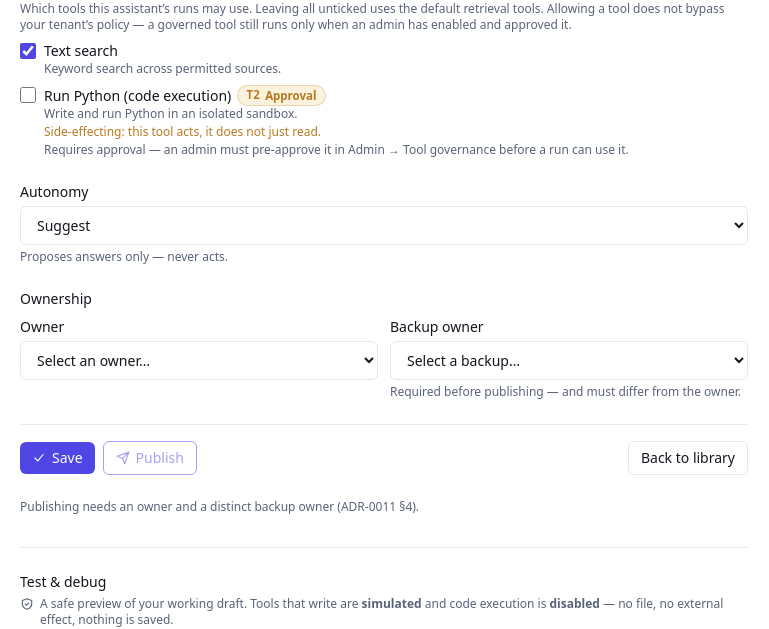
Test: AssistantEditor — publish gating (AC-1, ADR-0011 §4) › DISABLES Publish until an owner and a distinct backup owner are set
This screenshot has width=769, height=629.
(page scrolled)
Expected: the button "Publish" is disabled, [103,441,197,475]
Select "ada@acme.com" in the dropdown labelled "Owner" at (199, 360), box [20,341,378,380]
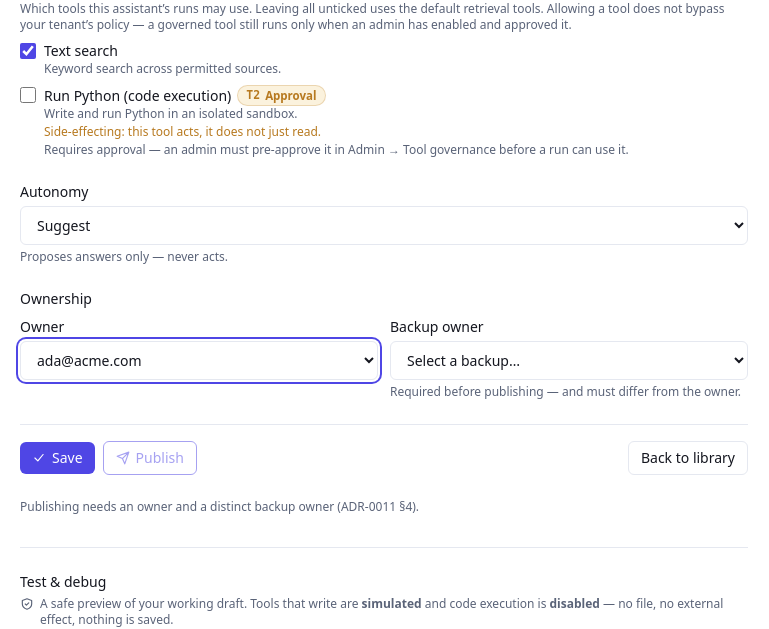
Expected: the button "Publish" is disabled, [103,441,197,475]
Select "grace@acme.com" in the dropdown labelled "Backup owner" at (569, 360), box [390,341,748,380]
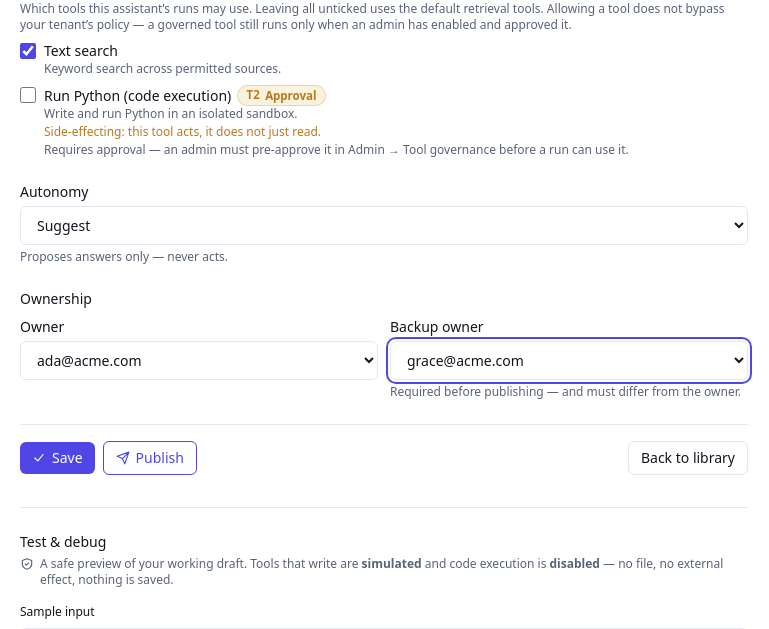
Expected: the button "Publish" is enabled, [103,441,197,475]
